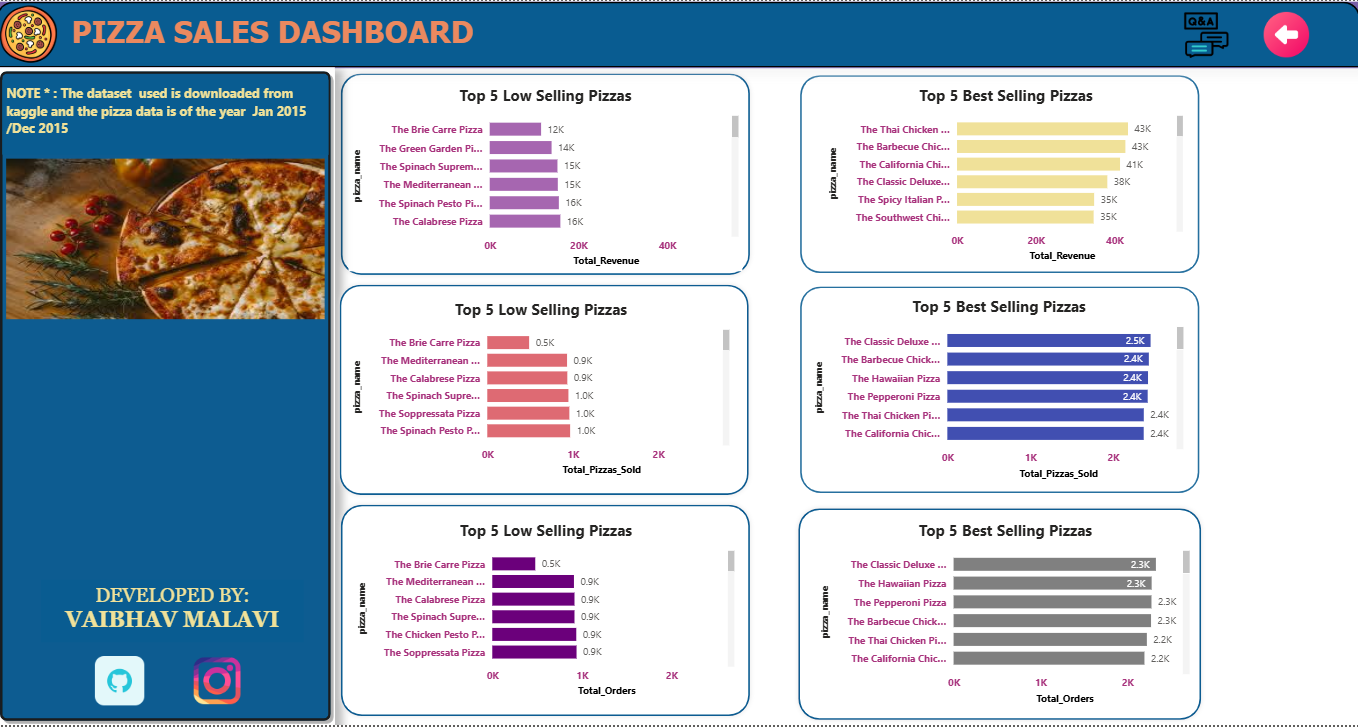

This screenshot's page, from the dashboard's own definition file:
{"tool":"powerbi","page":{"name":"Page 2","canvas":[1680,890],"ordinal":1},"visuals":[{"type":"shape","box":[981.5,83.1,507.7,260],"z":0},{"type":"barChart","title":"Top 5 Best Selling Pizzas","fields":{"Category":["pizza pizza_orders.pizza_name"],"Y":["pizza pizza_orders.Total_Revenue"]},"box":[1020,103.1,446.2,223.1],"z":1000},{"type":"shape","box":[418.5,83.1,515.4,260],"z":2000},{"type":"barChart","title":"Top 5 Low Selling Pizzas","fields":{"Category":["pizza pizza_orders.pizza_name"],"Y":["pizza pizza_orders.Total_Revenue"]},"box":[433.8,103.1,484.6,229.2],"z":3000},{"type":"shape","box":[0,0,1680,83.1],"z":4000},{"type":"image","box":[0,0,80,81.5],"z":5000},{"type":"textbox","box":[80,9.2,521.5,64.6],"z":6000},{"type":"actionButton","title":"Back","box":[18.5,96.9,98.5,92.3],"z":7000},{"type":"shape","box":[0,81.5,416.9,809.2],"z":8000},{"type":"shape","box":[416.9,343.1,515.4,270.8],"z":9000},{"type":"barChart","title":"Top 5 Low Selling Pizzas","fields":{"Category":["pizza pizza_orders.pizza_name"],"Y":["pizza pizza_orders.Total_Pizzas_Sold"]},"box":[433.8,366.2,473.8,223.1],"z":10000},{"type":"shape","box":[981.5,343.1,507.7,270.8],"z":11000},{"type":"barChart","title":"Top 5 Best Selling Pizzas","fields":{"Category":["pizza pizza_orders.pizza_name"],"Y":["pizza pizza_orders.Total_Pizzas_Sold"]},"box":[1003.1,363.1,463.1,230.8],"z":12000},{"type":"shape","box":[418.5,613.8,515.4,272.3],"z":13000},{"type":"shape","box":[981.5,618.5,507.7,272.3],"z":14000},{"type":"barChart","title":"Top 5 Best Selling Pizzas","fields":{"Category":["pizza pizza_orders.pizza_name"],"Y":["pizza pizza_orders.Total_Orders"]},"box":[1010.8,638.5,463.1,232.3],"z":15000},{"type":"barChart","title":"Top 5 Low Selling Pizzas","fields":{"Category":["pizza pizza_orders.pizza_name"],"Y":["pizza pizza_orders.Total_Orders"]},"box":[440,638.5,473.8,223.1],"z":16000},{"type":"textbox","box":[55.4,712.3,323.1,76.9],"z":17000},{"type":"image","box":[236.9,803.1,70.8,67.7],"z":18000},{"type":"image","box":[116.9,786.2,70.8,101.5],"z":19000},{"type":"image","box":[1555.4,4.6,66.2,73.8],"z":20000},{"type":"textbox","box":[15.4,96.9,401.5,92.3],"z":21000},{"type":"image","box":[7.7,172.3,401.5,207.7],"z":22000},{"type":"image","box":[1456.9,9.2,66.2,66.2],"z":23000}]}

Visuals, with their boxes in screenshot pixels (x1, y1, x2, y2), scaled from the page's 1680x890 canvas onto the 1358x728 screenshot:
shape: rect(793, 68, 1204, 281)
"Top 5 Best Selling Pizzas" barChart: rect(824, 84, 1185, 267)
shape: rect(338, 68, 755, 281)
"Top 5 Low Selling Pizzas" barChart: rect(351, 84, 742, 272)
shape: rect(0, 0, 1357, 68)
image: rect(0, 0, 65, 67)
textbox: rect(65, 8, 486, 60)
"Back" actionButton: rect(15, 79, 95, 155)
shape: rect(0, 67, 337, 727)
shape: rect(337, 281, 754, 502)
"Top 5 Low Selling Pizzas" barChart: rect(351, 300, 734, 482)
shape: rect(793, 281, 1204, 502)
"Top 5 Best Selling Pizzas" barChart: rect(811, 297, 1185, 486)
shape: rect(338, 502, 755, 725)
shape: rect(793, 506, 1204, 727)
"Top 5 Best Selling Pizzas" barChart: rect(817, 522, 1191, 712)
"Top 5 Low Selling Pizzas" barChart: rect(356, 522, 739, 705)
textbox: rect(45, 583, 306, 646)
image: rect(191, 657, 249, 712)
image: rect(94, 643, 152, 726)
image: rect(1257, 4, 1311, 64)
textbox: rect(12, 79, 337, 155)
image: rect(6, 141, 331, 311)
image: rect(1178, 8, 1231, 62)
